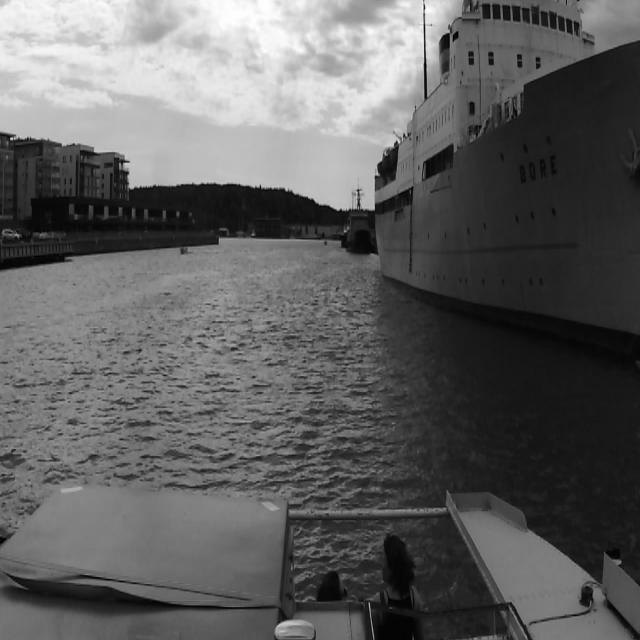ship: (374, 0, 638, 351), (342, 184, 372, 255)
